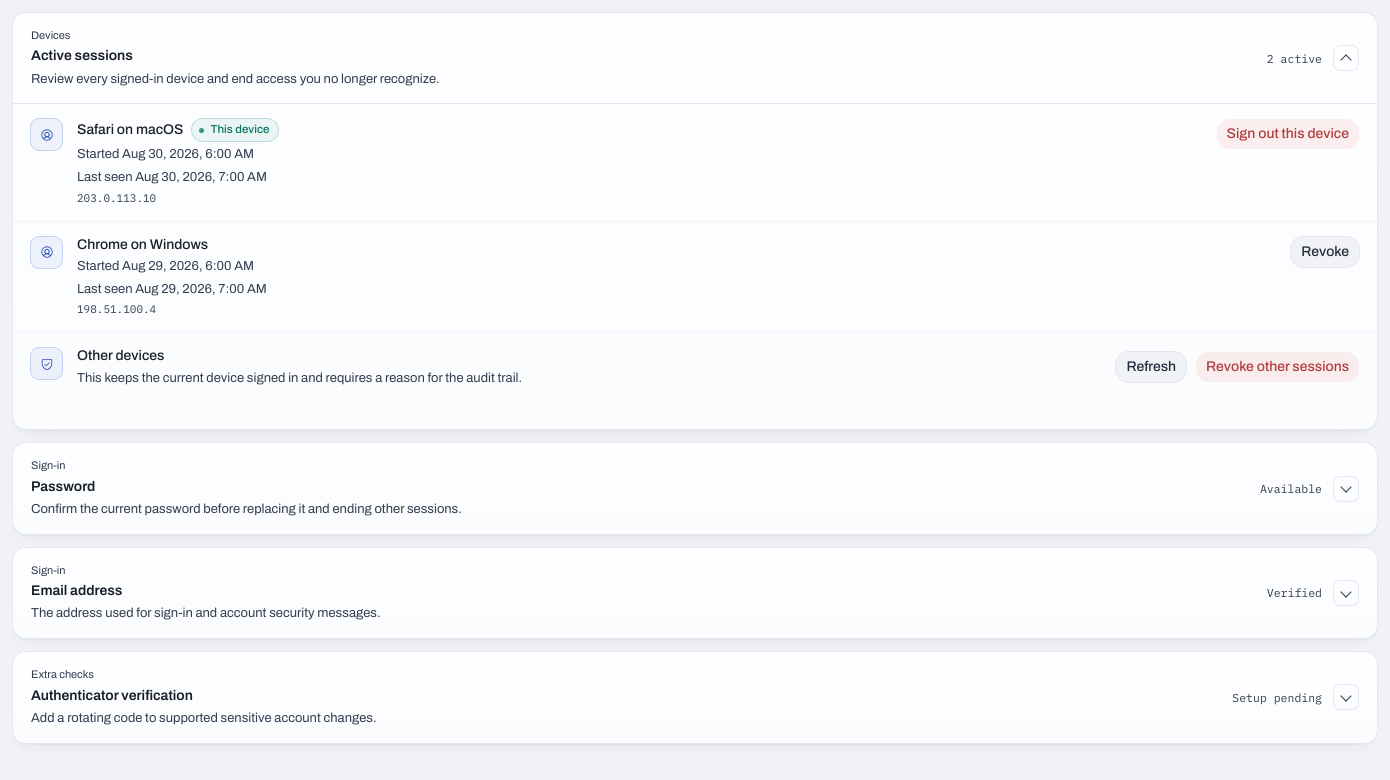
Test: AccountSecuritySettings › fails closed on email identity mismatch and an interrupted authenticator setup
Expected: the text "Chrome on Windows" is shown, x1=77 y1=236 x2=208 y2=254
Expected: the text "Setup pending" is shown, x1=1232 y1=689 x2=1322 y2=706
Click the button "Email address": (48, 570) x1=13 y1=548 x2=1377 y2=638
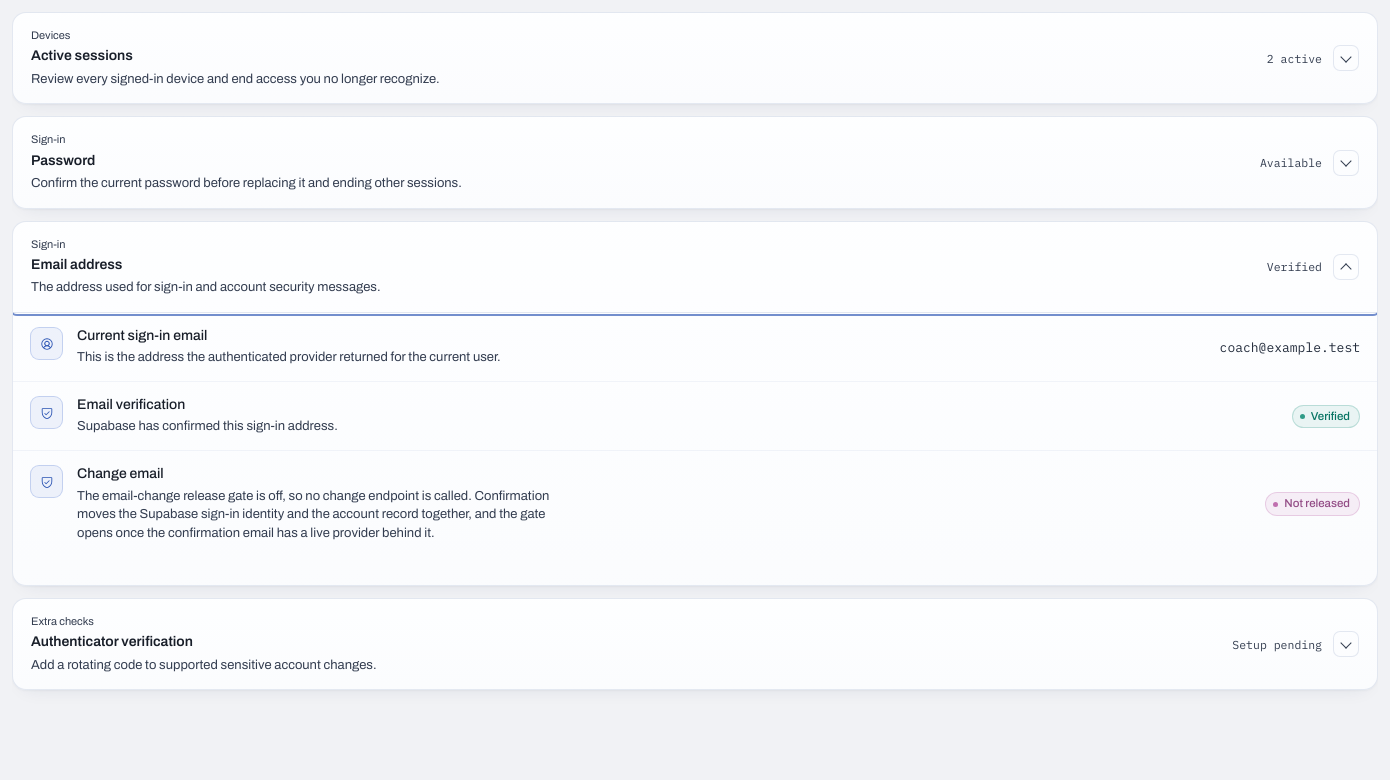
Expected: the text "coach@example.test" is shown, x1=1220 y1=338 x2=1360 y2=357
Expected: the text "Verified" is shown 2 times, x1=1267 y1=258 x2=1322 y2=276; x1=1311 y1=408 x2=1350 y2=424
Expected: the text "Not released" is shown, x1=1284 y1=496 x2=1350 y2=512
Click the button "Authenticator verification": (62, 621) x1=13 y1=599 x2=1377 y2=689
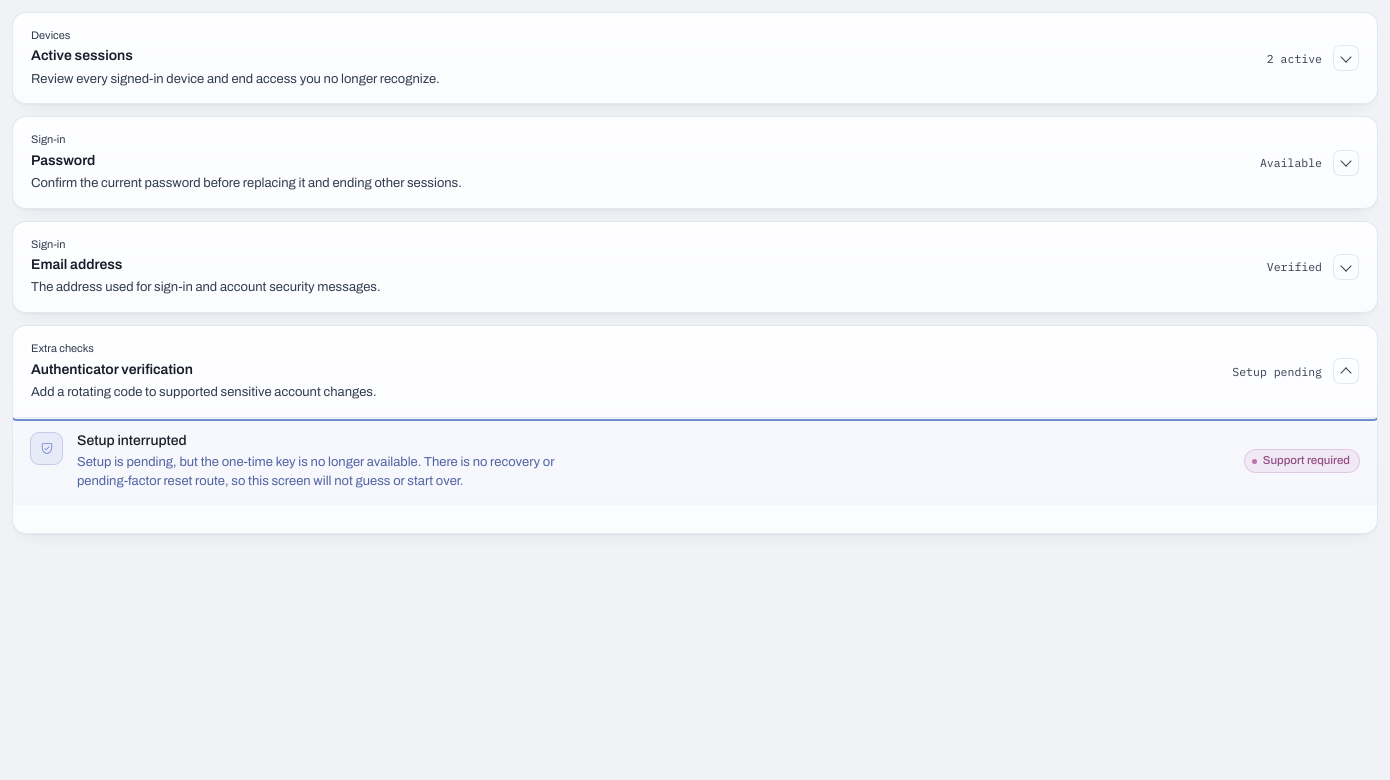
Expected: the text "Setup interrupted" is shown, x1=77 y1=433 x2=187 y2=448
Expected: the text "There is no recovery or pending-factor reset route" is shown, x1=77 y1=455 x2=554 y2=488
